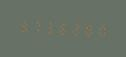eight: (82, 21, 94, 38)
nine: (17, 17, 29, 35)
seven: (30, 18, 42, 35)
six: (56, 19, 68, 37)
three: (43, 18, 55, 36)
two: (69, 20, 81, 37)
zero: (95, 21, 107, 39)
